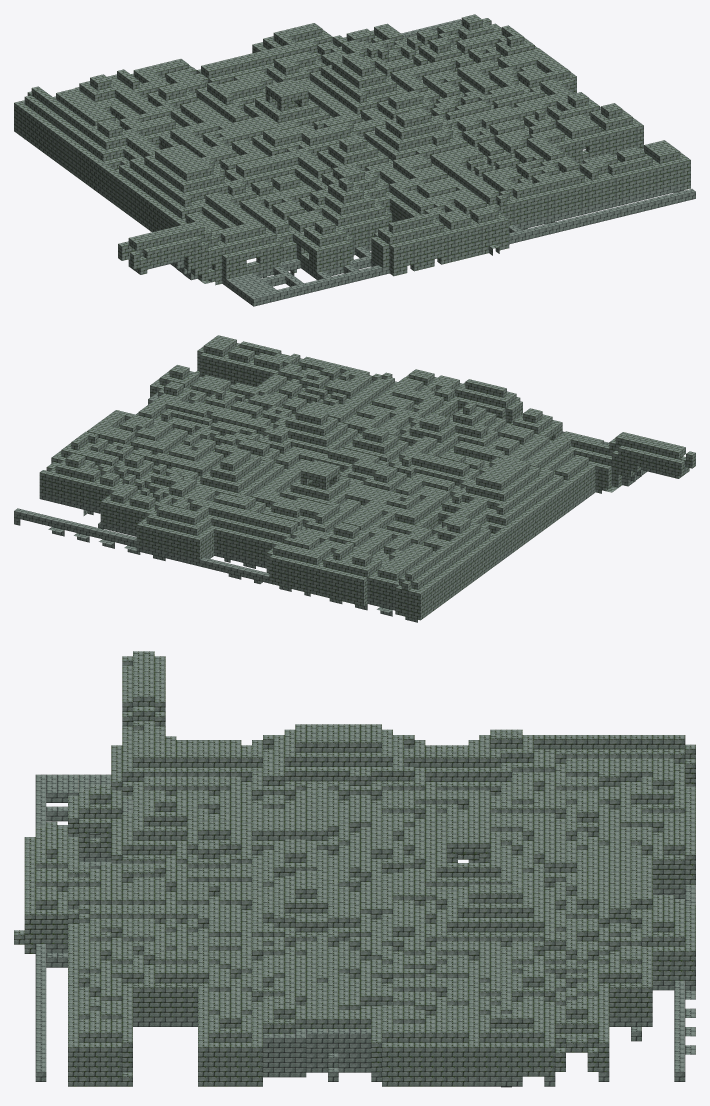
Rendered from prototypeAlpha1bTopOnly.fbx.
The picture shows the model from 3 angles, top to bottom: view 1: azimuth 30°, elevation 25°; view 2: azimuth 150°, elevation 25°; view 3: azimuth 270°, elevation 25°; orthographic projection. The views are drawn at different scales.
Parts seen in each view (by area): view 1: mcReExport_Stone_Bricks; view 2: mcReExport_Stone_Bricks; view 3: mcReExport_Stone_Bricks.
Part boxes in pixels (<box>): mcReExport_Stone_Bricks: <box>14,14,695,306</box>; mcReExport_Stone_Bricks: <box>14,335,695,622</box>; mcReExport_Stone_Bricks: <box>14,651,695,1087</box>.
Size of the model in its own units: 7.9 by 0.9 by 6.3.
1 material, 1 textured.
